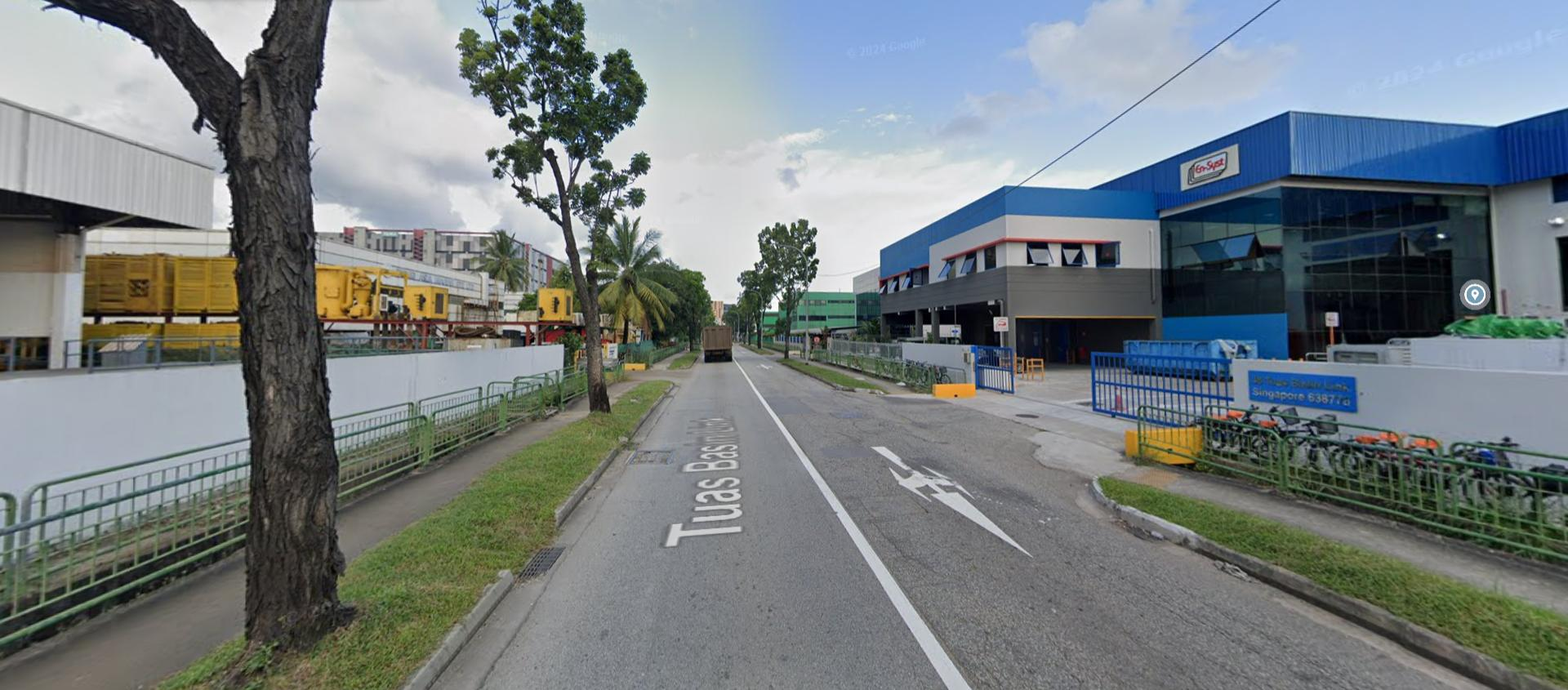defect: (518, 546, 567, 582)
